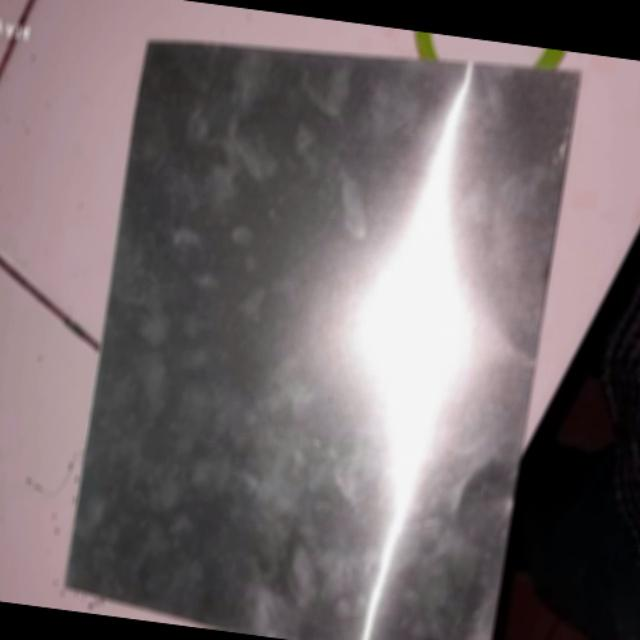TLC Plate: (55, 39, 580, 640)
